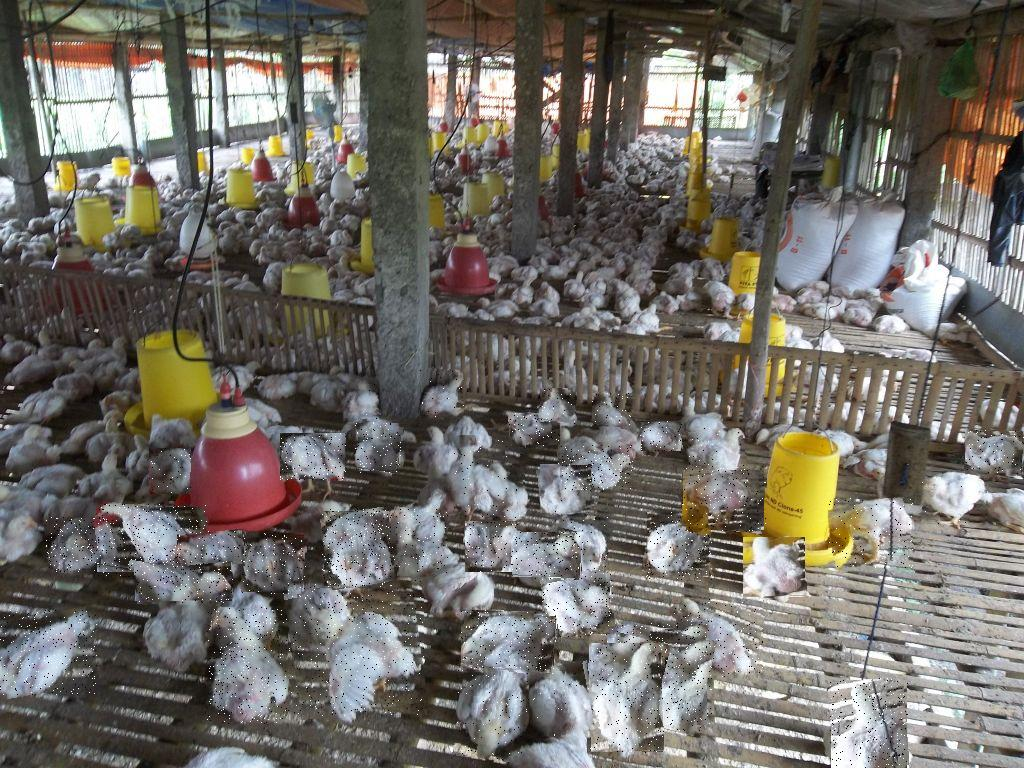chicken: (288, 581, 424, 717), (602, 623, 712, 731), (207, 607, 287, 724), (0, 610, 97, 695), (96, 505, 208, 578), (590, 644, 664, 754), (456, 654, 529, 761), (671, 600, 763, 678), (830, 678, 908, 768), (449, 436, 525, 519), (829, 499, 914, 570), (462, 611, 557, 672), (323, 509, 394, 588), (683, 468, 767, 532), (530, 663, 598, 737), (644, 510, 712, 580), (543, 570, 614, 637), (242, 531, 307, 594), (386, 509, 448, 573), (135, 564, 233, 604), (744, 538, 807, 600), (922, 472, 988, 527), (46, 518, 110, 573), (514, 533, 584, 580), (561, 445, 633, 490), (280, 434, 346, 481), (554, 517, 612, 570), (539, 462, 594, 515), (466, 521, 520, 572), (965, 430, 1024, 475), (356, 422, 403, 473), (421, 369, 469, 418), (179, 531, 245, 566), (689, 429, 747, 468), (150, 448, 193, 494), (509, 414, 560, 447), (341, 380, 379, 421), (593, 394, 635, 429), (640, 422, 682, 454), (539, 389, 576, 425)
